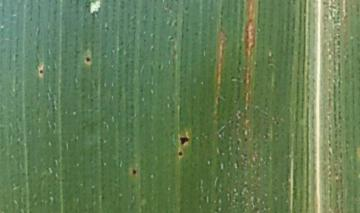tarspot: (176, 133, 191, 147), (81, 54, 95, 65), (129, 166, 139, 179), (36, 66, 47, 77), (175, 149, 186, 159)
